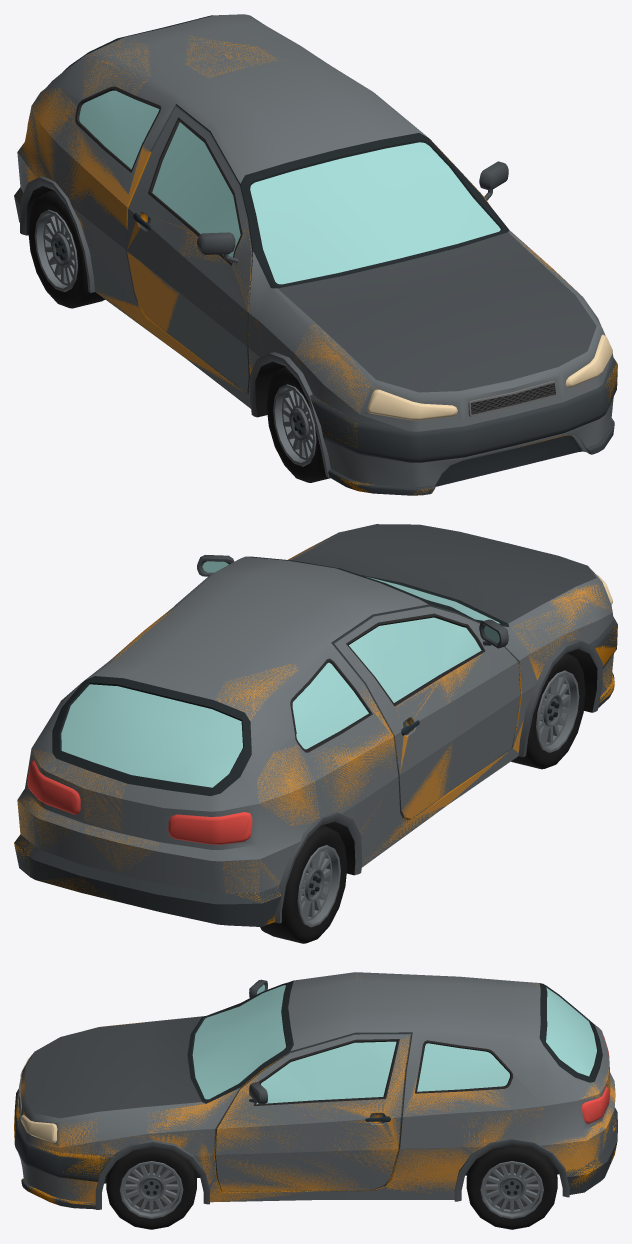
Rendered from SM_Vehicles_07_V1.fbx.
3 renders of one model, top to bottom at view 1: azimuth 30°, elevation 25°; view 2: azimuth 150°, elevation 25°; view 3: azimuth 270°, elevation 25°, orthographic. The views are drawn at different scales.
Parts seen in each view (by area): view 1: SM_Vehicles_07_V1, SM_Vehicles_07_V2, SM_Vehicles_07_RR, SM_Vehicles_07_FR; view 2: SM_Vehicles_07_V1, SM_Vehicles_07_V2, SM_Vehicles_07_RR, SM_Vehicles_07_FR; view 3: SM_Vehicles_07_V1, SM_Vehicles_07_V2, SM_Vehicles_07_RL, SM_Vehicles_07_FL.
Part boxes in pixels (x1=…): SM_Vehicles_07_V1: x1=14, y1=14, x2=617, y2=495; SM_Vehicles_07_V2: x1=17, y1=36, x2=617, y2=494; SM_Vehicles_07_RR: x1=28, y1=190, x2=105, y2=308; SM_Vehicles_07_FR: x1=266, y1=366, x2=330, y2=482; SM_Vehicles_07_V1: x1=14, y1=524, x2=617, y2=926; SM_Vehicles_07_V2: x1=14, y1=538, x2=617, y2=925; SM_Vehicles_07_RR: x1=260, y1=825, x2=347, y2=943; SM_Vehicles_07_FR: x1=511, y1=653, x2=585, y2=769; SM_Vehicles_07_V1: x1=14, y1=972, x2=617, y2=1209; SM_Vehicles_07_V2: x1=14, y1=975, x2=616, y2=1209; SM_Vehicles_07_RL: x1=466, y1=1145, x2=557, y2=1229; SM_Vehicles_07_FL: x1=106, y1=1147, x2=196, y2=1229.
Size of the model in its own units: 1.7 by 1.31 by 3.81.
